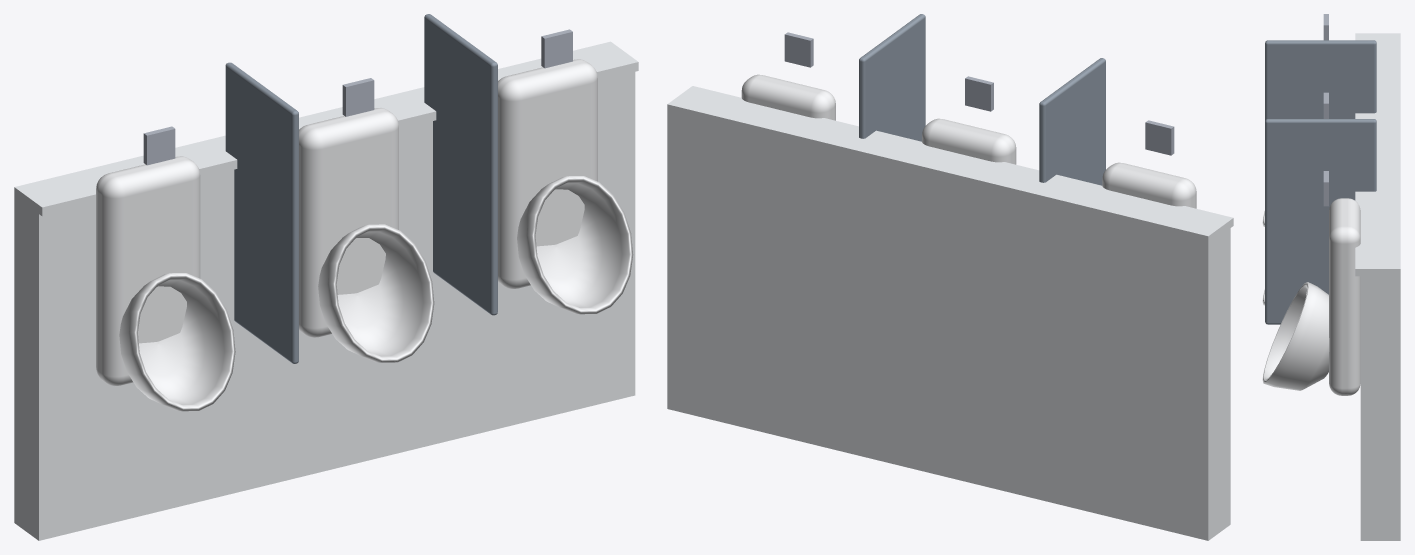
File: ame-003.glb
3 renders of one model, left to right at view 1: azimuth 30°, elevation 25°; view 2: azimuth 150°, elevation 25°; view 3: azimuth 270°, elevation 25°, orthographic. The views are drawn at different scales.
Visible parts, largest first — view 1: white, porcelain, partition, steel; view 2: white, partition, porcelain, steel; view 3: partition, white, porcelain, steel.
Part boxes in pixels (bbox=[...]): white: bbox=[14, 41, 638, 540]; porcelain: bbox=[96, 59, 633, 411]; partition: bbox=[225, 14, 497, 363]; steel: bbox=[143, 29, 572, 165]; white: bbox=[667, 86, 1233, 540]; partition: bbox=[859, 14, 1105, 185]; porcelain: bbox=[741, 74, 1196, 208]; steel: bbox=[784, 32, 1174, 155]; partition: bbox=[1265, 40, 1376, 324]; white: bbox=[1355, 33, 1400, 540]; porcelain: bbox=[1262, 198, 1360, 395]; steel: bbox=[1323, 14, 1328, 206].
Size of the model in its own units: 2.1 by 1.42 by 0.5204.
